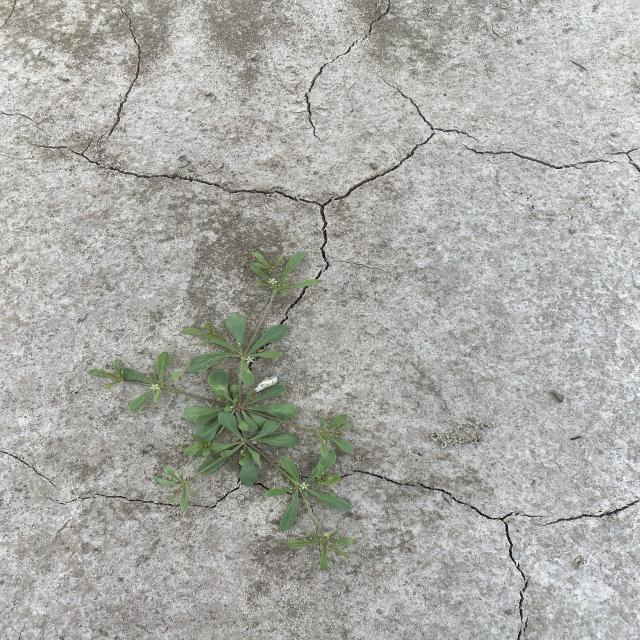Carpetweed: (85, 249, 358, 572)
